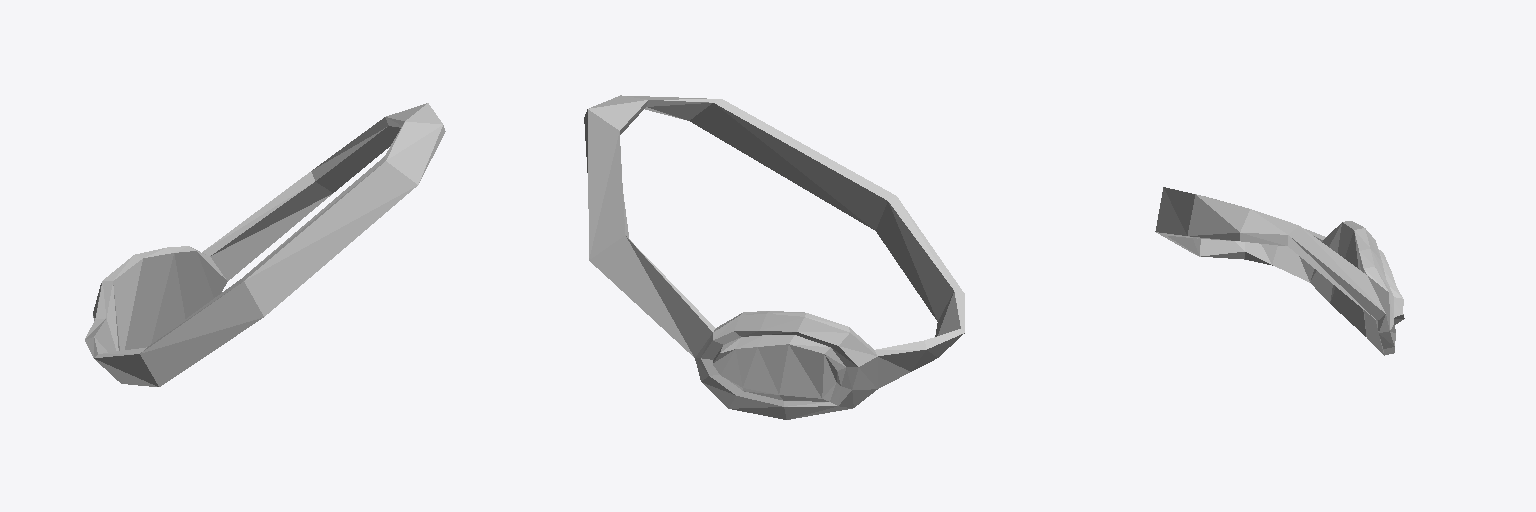
The model's file is guyChestPiece.obj.
The picture shows the model from 3 angles: view 1: azimuth 30°, elevation 25°; view 2: azimuth 150°, elevation 25°; view 3: azimuth 270°, elevation 25°; orthographic projection.
Parts seen in each view (by area): view 1: polySurface1; view 2: polySurface1; view 3: polySurface1.
Boxes of the visible parts, x1,y1,x2,y2 form: polySurface1: [85, 103, 445, 386]; polySurface1: [584, 95, 964, 419]; polySurface1: [1155, 187, 1404, 355].
Size of the model in its own units: 57.82 by 34.59 by 34.71.